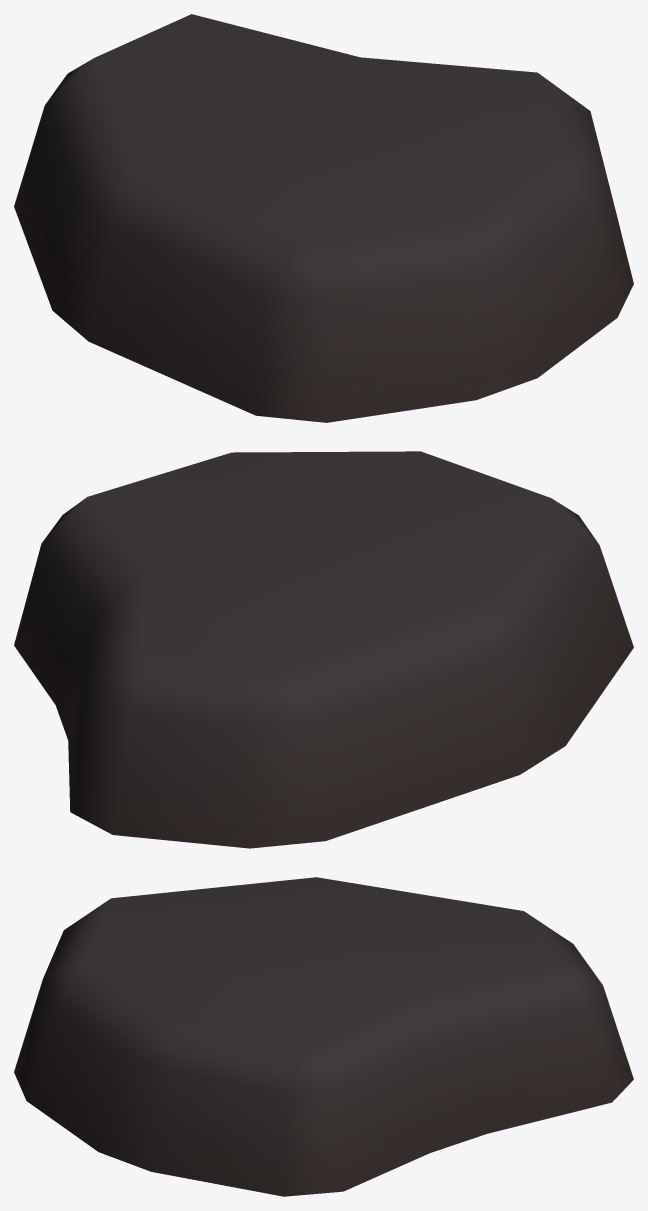
Rendered from Stone_003.glb.
3 views of the same model, one above another, from view 1: azimuth 30°, elevation 25°; view 2: azimuth 150°, elevation 25°; view 3: azimuth 270°, elevation 25° (orthographic). The views are drawn at different scales.
Parts seen in each view (by area): view 1: Stone_003; view 2: Stone_003; view 3: Stone_003.
Part boxes in pixels (bbox=[...]): Stone_003: bbox=[14, 14, 633, 422]; Stone_003: bbox=[14, 451, 633, 848]; Stone_003: bbox=[14, 877, 633, 1196].
Size of the model in its own units: 3.01 by 0.7961 by 3.57.
1 material, 1 textured.
